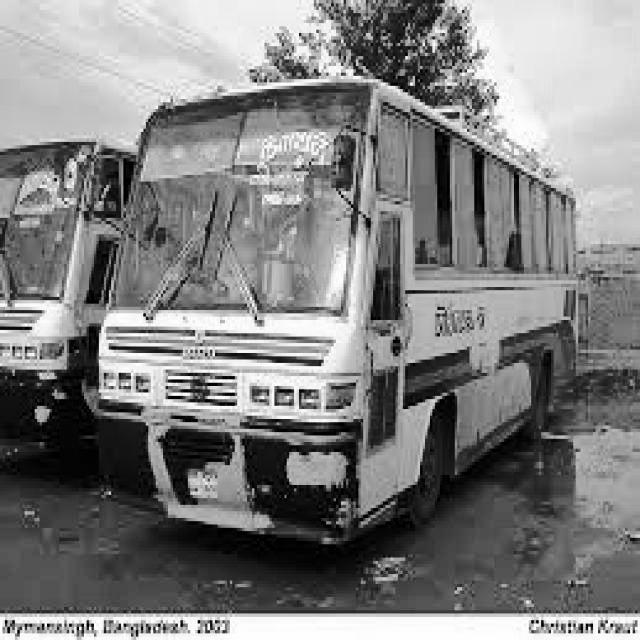Bus: (100, 36, 595, 574), (0, 127, 106, 491)
